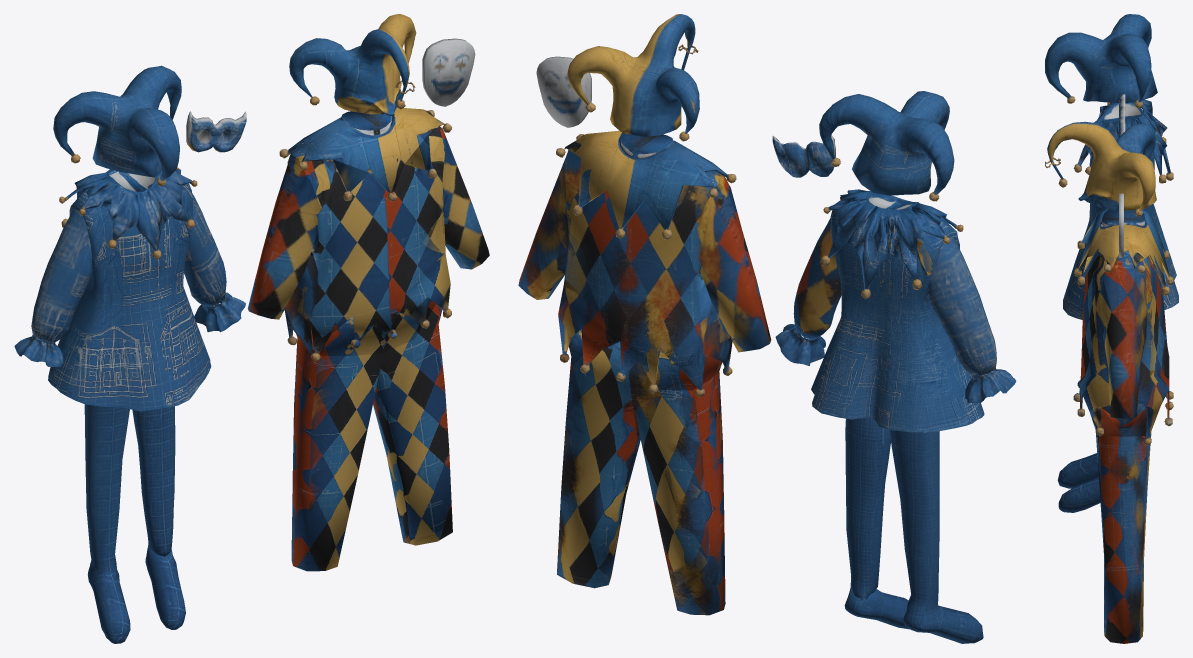
Rendered from jester.glb.
3 views of the same model, side by side, from view 1: azimuth 30°, elevation 25°; view 2: azimuth 150°, elevation 25°; view 3: azimuth 270°, elevation 25° (orthographic). The views are drawn at different scales.
Visible parts, largest first — view 1: tripo_part_49, tripo_part_38, tripo_part_12, tripo_part_9, tripo_part_7, tripo_part_40, tripo_part_26, tripo_part_48, tripo_part_17, tripo_part_1, tripo_part_14, tripo_part_61 (+7 smaller); view 2: tripo_part_49, tripo_part_38, tripo_part_12, tripo_part_9, tripo_part_40, tripo_part_7, tripo_part_48, tripo_part_26, tripo_part_17, tripo_part_1, tripo_part_61, tripo_part_8 (+9 smaller); view 3: tripo_part_49, tripo_part_38, tripo_part_9, tripo_part_40, tripo_part_61, tripo_part_48, tripo_part_12, tripo_part_16, tripo_part_7, tripo_part_14, tripo_part_57, tripo_part_41 (+5 smaller).
Boxes of the visible parts, x1,y1,x2,y2 form: tripo_part_49: (291,304,452,571); tripo_part_38: (284,127,456,356); tripo_part_12: (48,170,211,411); tripo_part_9: (53,65,181,181); tripo_part_7: (84,404,130,643); tripo_part_40: (289,14,416,115); tripo_part_26: (247,155,320,319); tripo_part_48: (287,107,444,192); tripo_part_17: (132,406,175,556); tripo_part_1: (31,209,92,343); tripo_part_14: (79,169,192,250); tripo_part_61: (444,146,489,269); tripo_part_49: (557,315,725,615); tripo_part_38: (558,150,732,390); tripo_part_12: (811,192,984,432); tripo_part_9: (819,91,954,195); tripo_part_40: (567,14,699,136); tripo_part_7: (889,430,983,643); tripo_part_48: (564,130,728,229); tripo_part_26: (690,183,771,352); tripo_part_17: (845,417,890,600); tripo_part_1: (927,237,996,376); tripo_part_61: (518,155,568,299); tripo_part_8: (847,206,946,289); tripo_part_49: (1095,407,1157,643); tripo_part_38: (1079,251,1169,436); tripo_part_9: (1045,14,1157,102); tripo_part_40: (1047,121,1156,211); tripo_part_61: (1099,269,1147,418); tripo_part_48: (1078,208,1169,286); tripo_part_12: (1063,102,1178,319); tripo_part_16: (1058,478,1100,512); tripo_part_7: (1057,453,1098,488); tripo_part_14: (1077,102,1153,166); tripo_part_57: (1089,406,1123,436); tripo_part_41: (1102,209,1145,226).
Size of the model in its own units: 0.9178 by 1 by 0.2485.
Materials: 1 (1 with a texture image).
